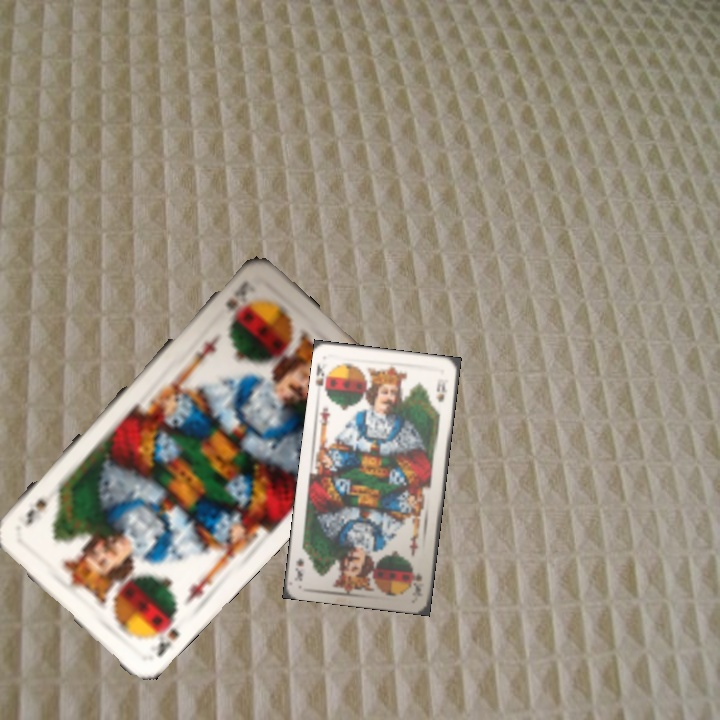SK: (152, 607, 182, 660), (221, 282, 251, 314), (312, 358, 333, 397), (409, 569, 424, 594)
